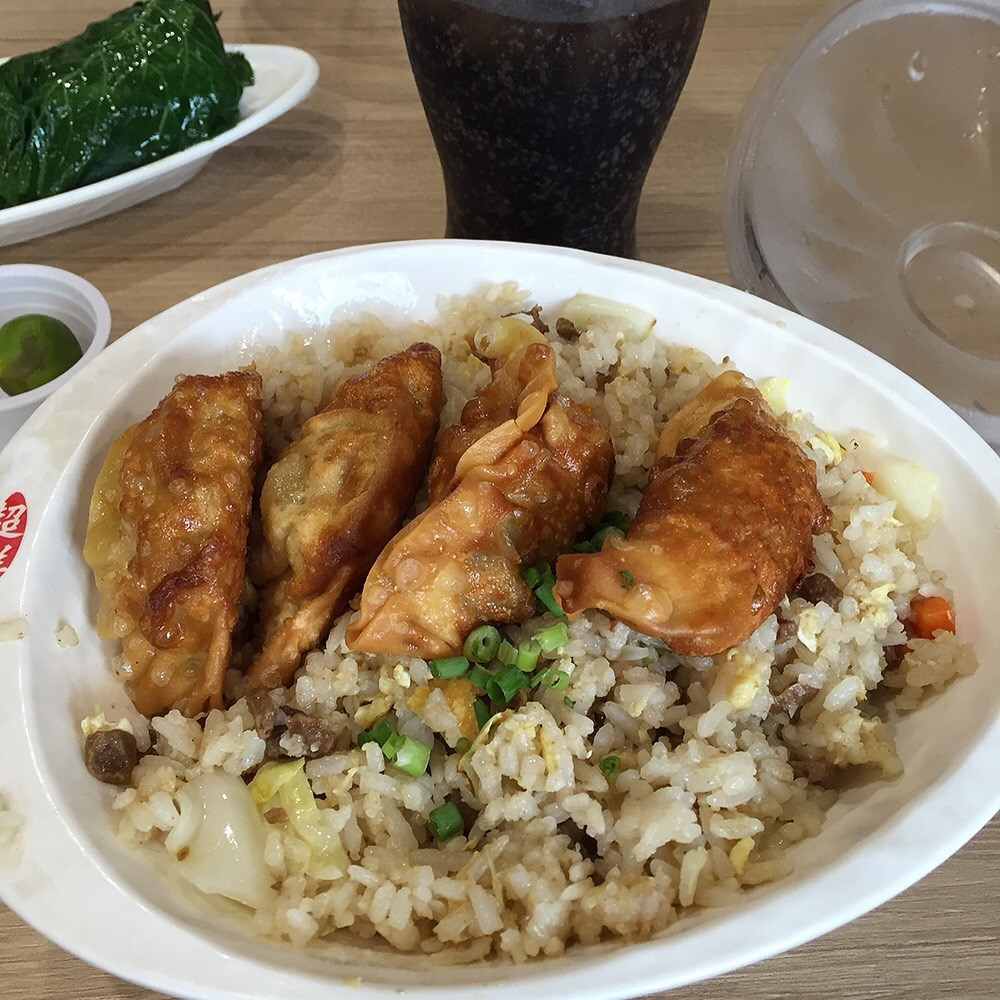fried_dumplings: (384, 416, 576, 628), (73, 388, 213, 648), (631, 395, 766, 648), (265, 385, 404, 611), (409, 355, 503, 452)
